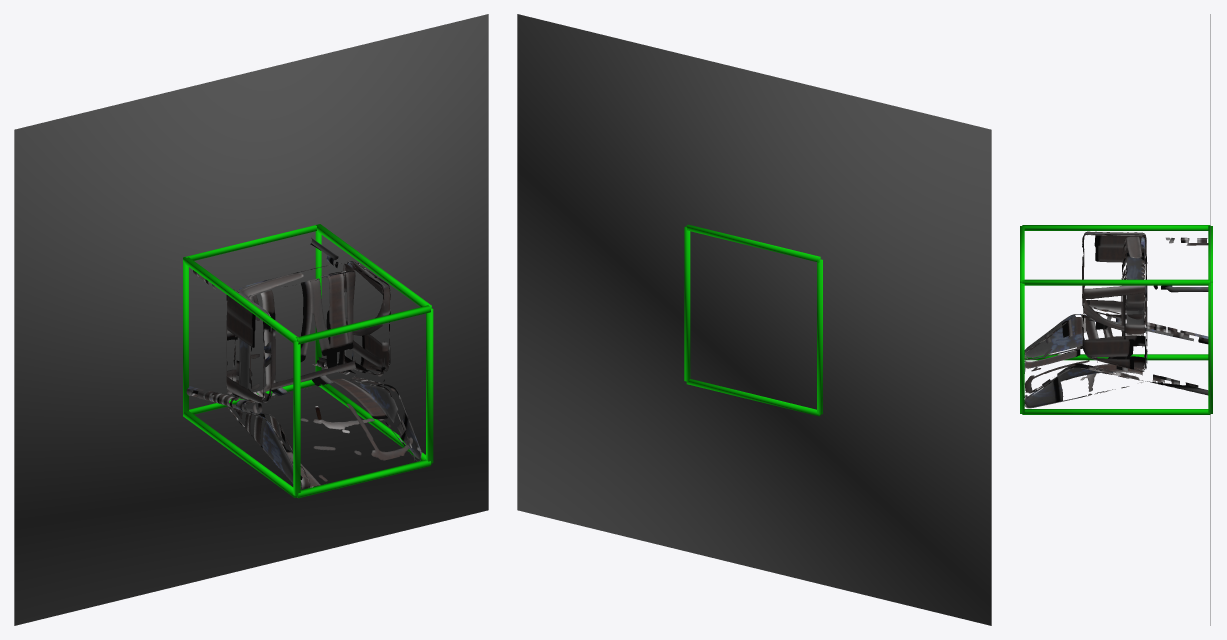
The picture shows the model from 3 angles, left to right: view 1: azimuth 30°, elevation 25°; view 2: azimuth 150°, elevation 25°; view 3: azimuth 270°, elevation 25°; orthographic projection. The views are drawn at different scales.
Size of the model in its own units: 2 by 2 by 0.8369.
